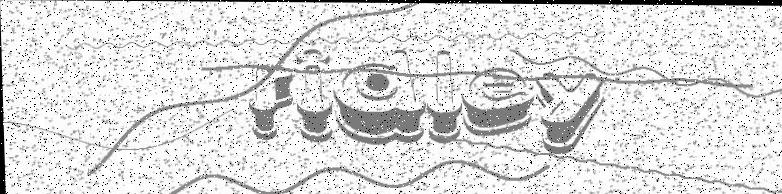d: (330, 46, 427, 142)
e: (458, 65, 534, 135)
i: (294, 45, 336, 143)
l: (424, 46, 464, 143)
r: (248, 62, 298, 141)
y: (535, 70, 608, 154)
